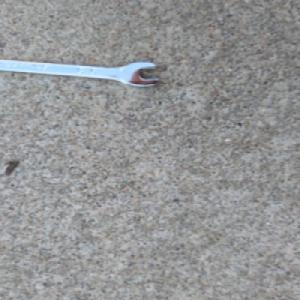Wrench: (0, 58, 165, 90)
